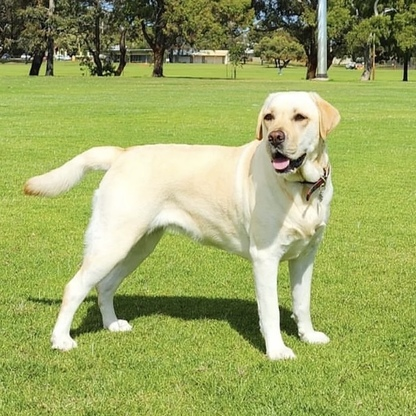labrado: (16, 88, 343, 365)
